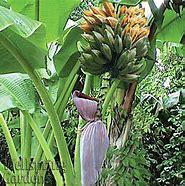banana: (70, 0, 167, 84)
